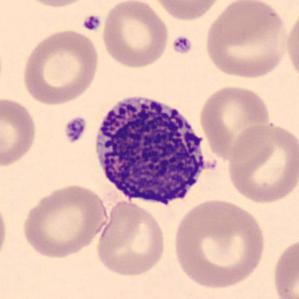Basophil: (88, 87, 218, 212)
Platelets: (62, 115, 88, 145), (170, 34, 194, 55), (81, 13, 103, 33)
RBC: (170, 196, 269, 292), (201, 0, 290, 81), (19, 181, 110, 260), (20, 27, 101, 107), (224, 120, 298, 205), (94, 197, 169, 279), (197, 83, 272, 163), (100, 0, 171, 69), (0, 94, 39, 170), (270, 234, 298, 299), (148, 0, 226, 22), (283, 9, 299, 84), (0, 195, 10, 269), (17, 0, 94, 9)
